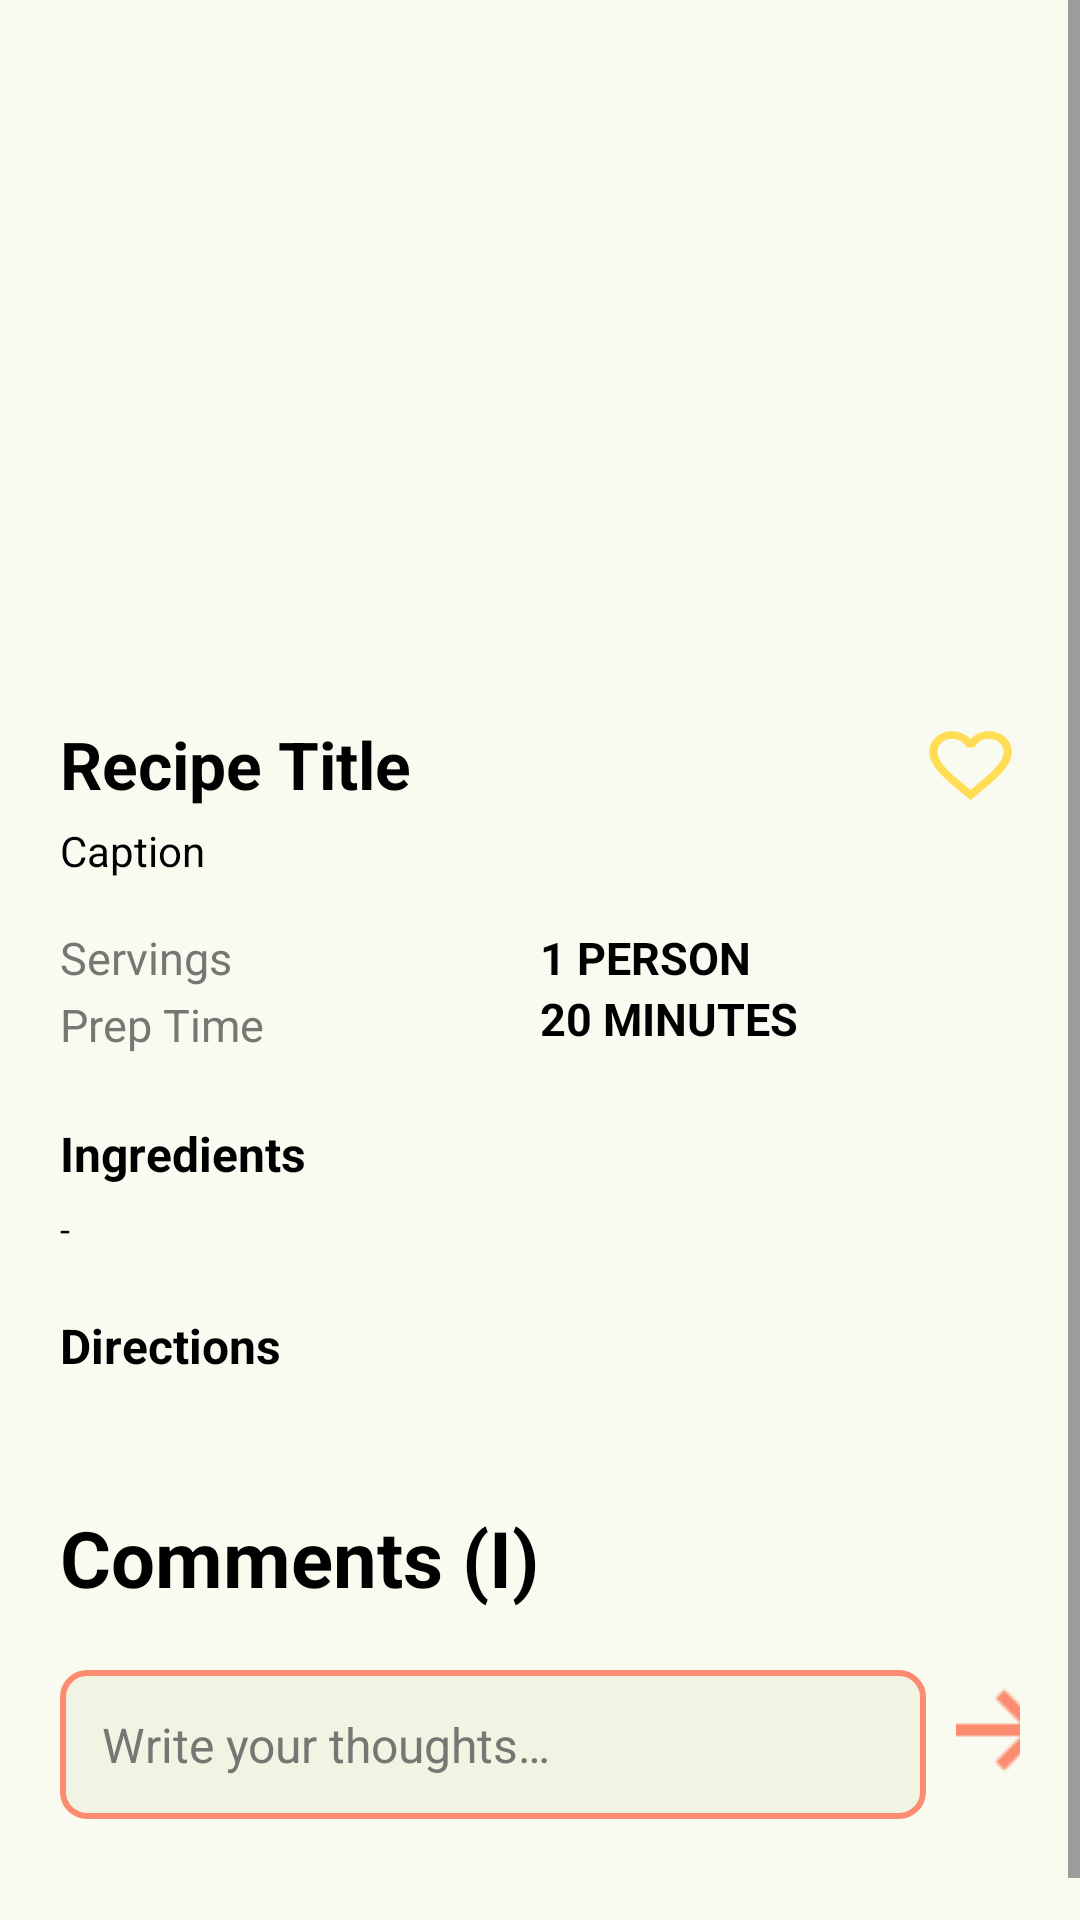

Named icons in this screenshot (1080*1920) and their bounding boxes, [x1=x1, y1=y1, x2=x2, y2=y2]:
Favorite: [x1=929, y1=731, x2=1012, y2=800]
forward arrow: [x1=956, y1=1690, x2=1020, y2=1770]
